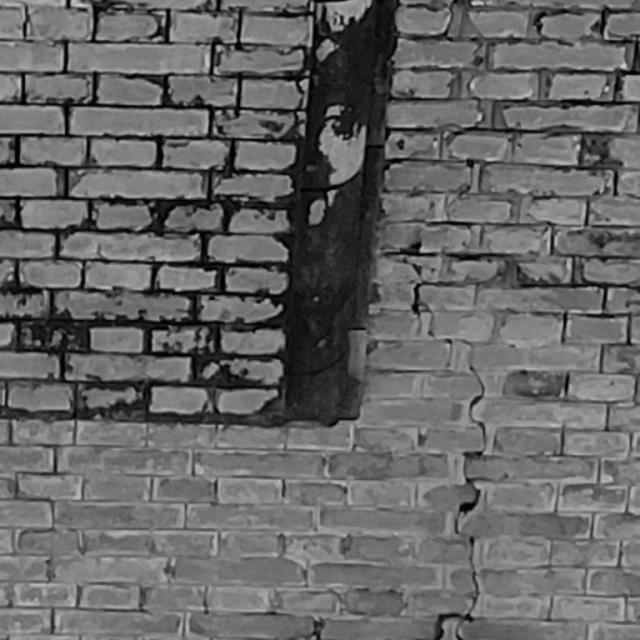crack: (384, 72, 487, 640)
